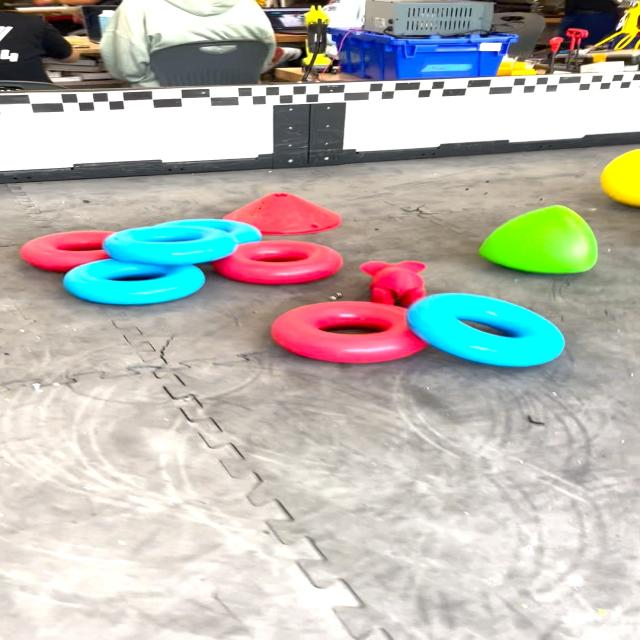Blue-Ring: (407, 292, 564, 366), (64, 259, 204, 305), (102, 225, 238, 265), (158, 219, 262, 244)
Red-Ring: (271, 301, 429, 362), (211, 240, 342, 284), (20, 230, 113, 272)
